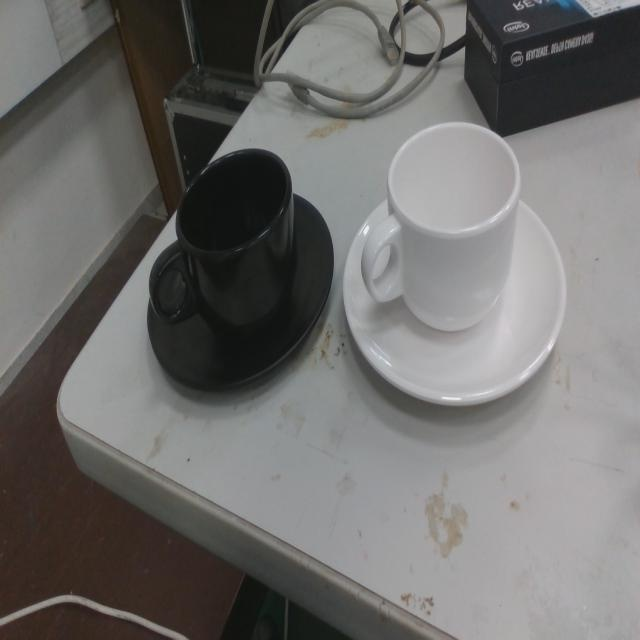black: (146, 145, 335, 400)
white: (339, 115, 570, 415)
